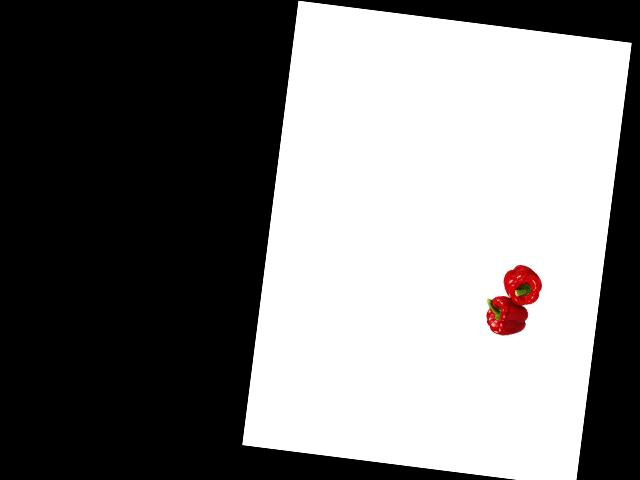bell_pepper: (481, 292, 533, 339)
